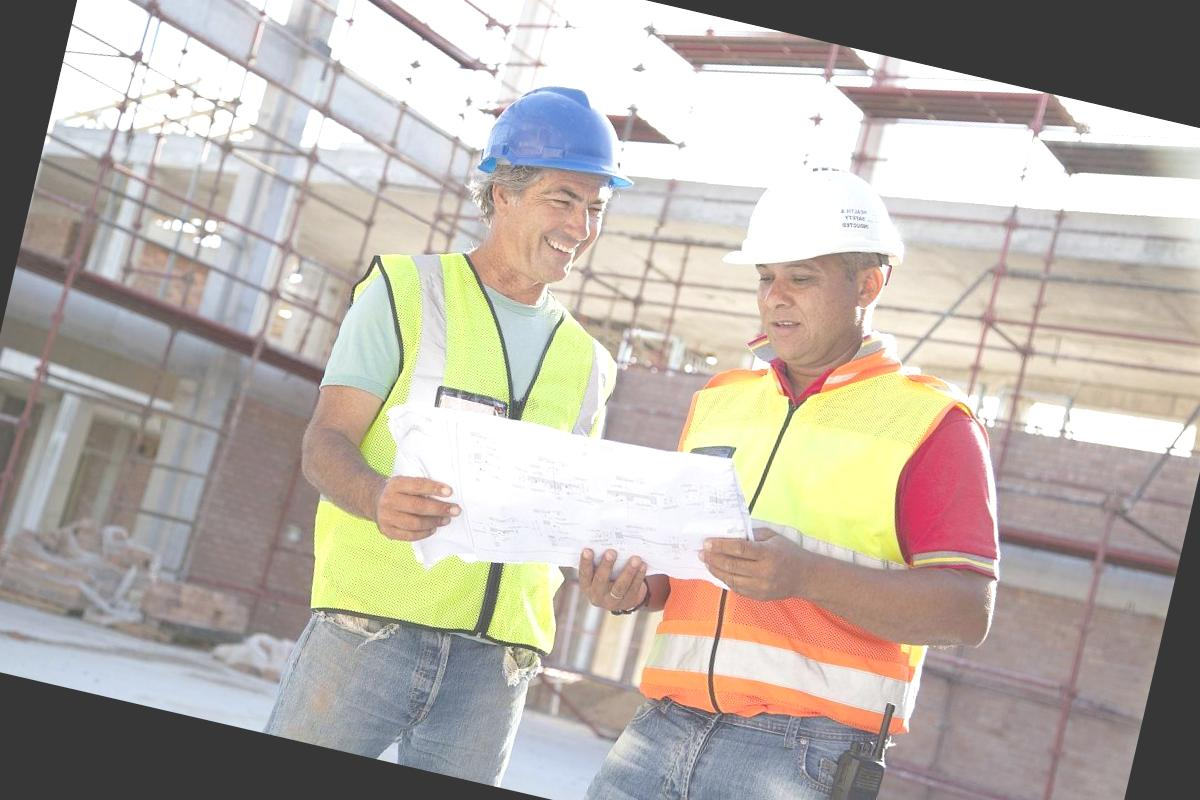helmet: (691, 130, 940, 326), (404, 49, 652, 217)
person: (537, 110, 1090, 800), (218, 31, 676, 792)
